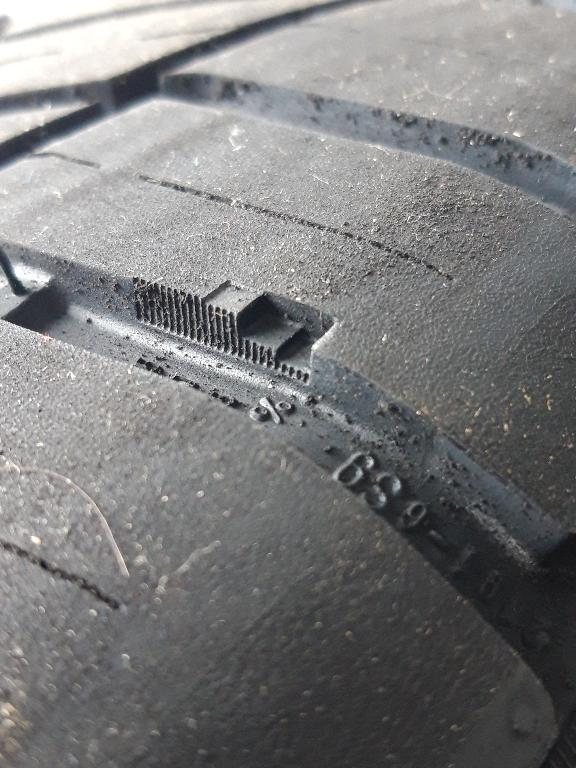temoin:50: (194, 276, 345, 394)
